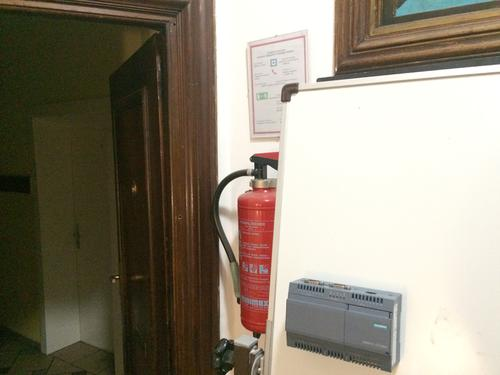iot2000: (285, 277, 404, 374)
